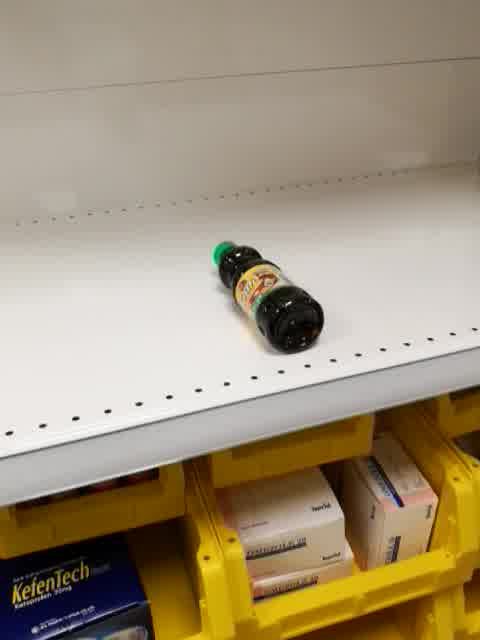cookingoil: (211, 241, 325, 355)
